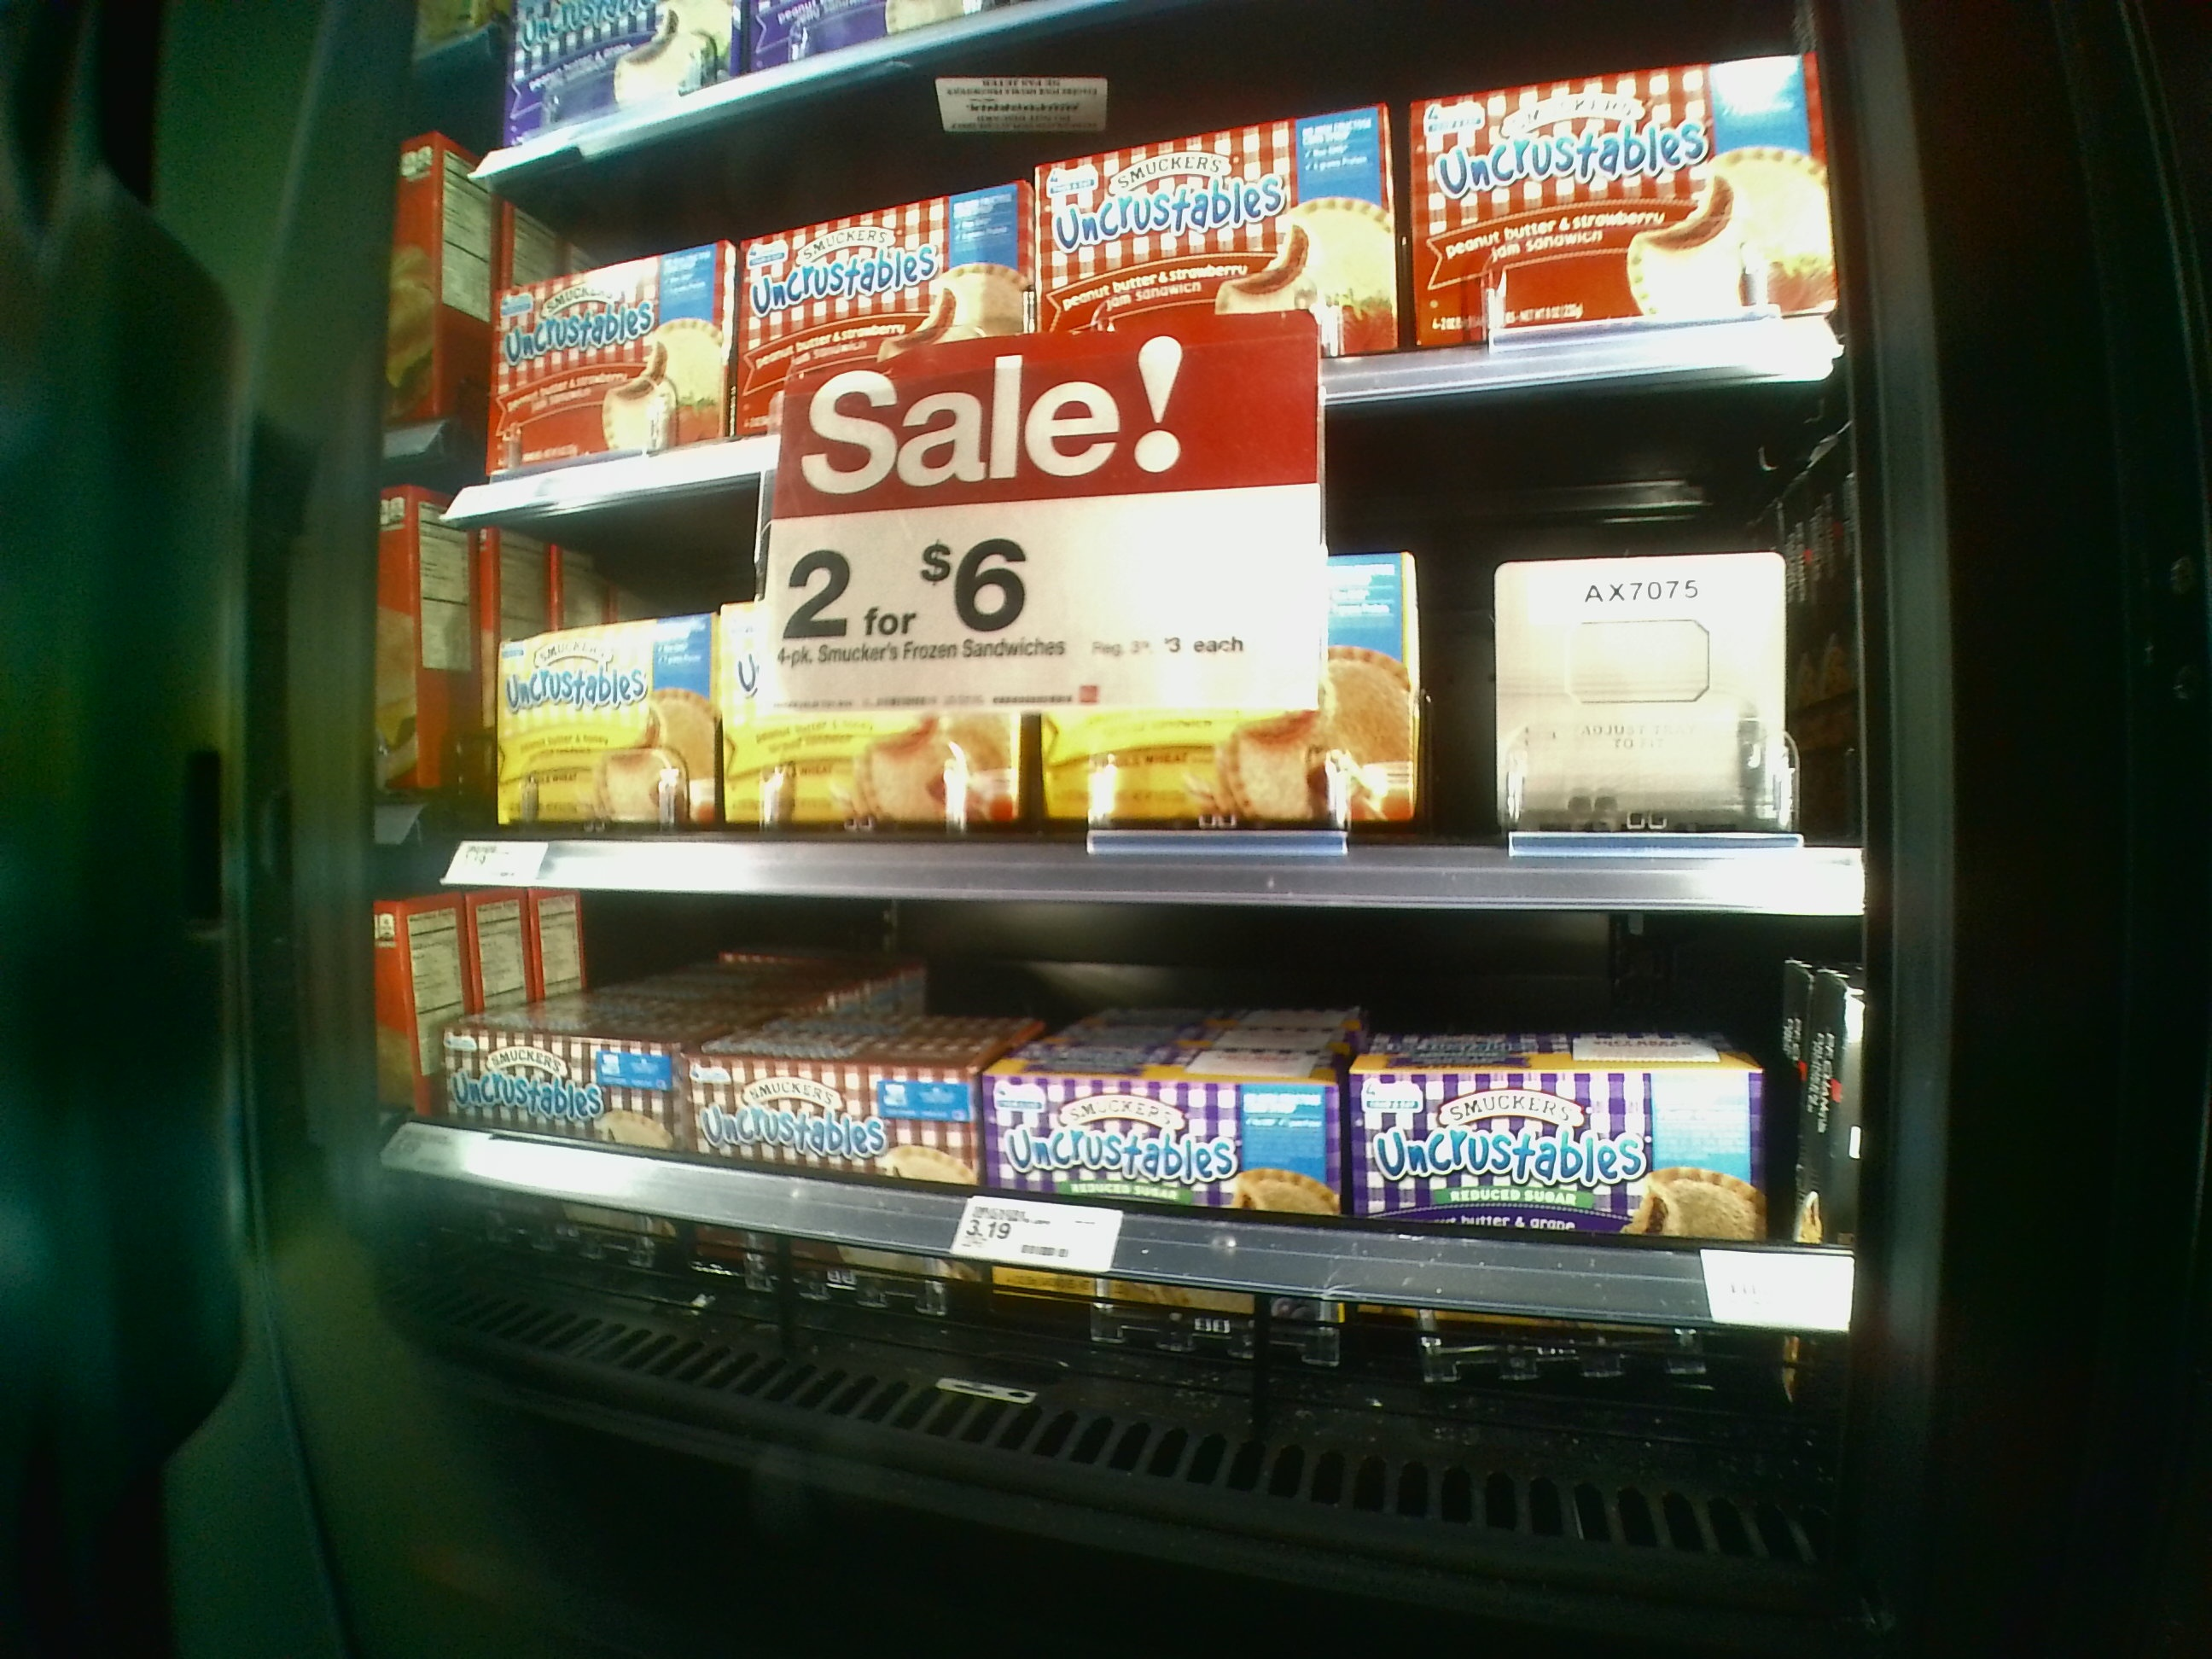shelf: (427, 873, 1850, 1490), (441, 502, 1860, 934)
